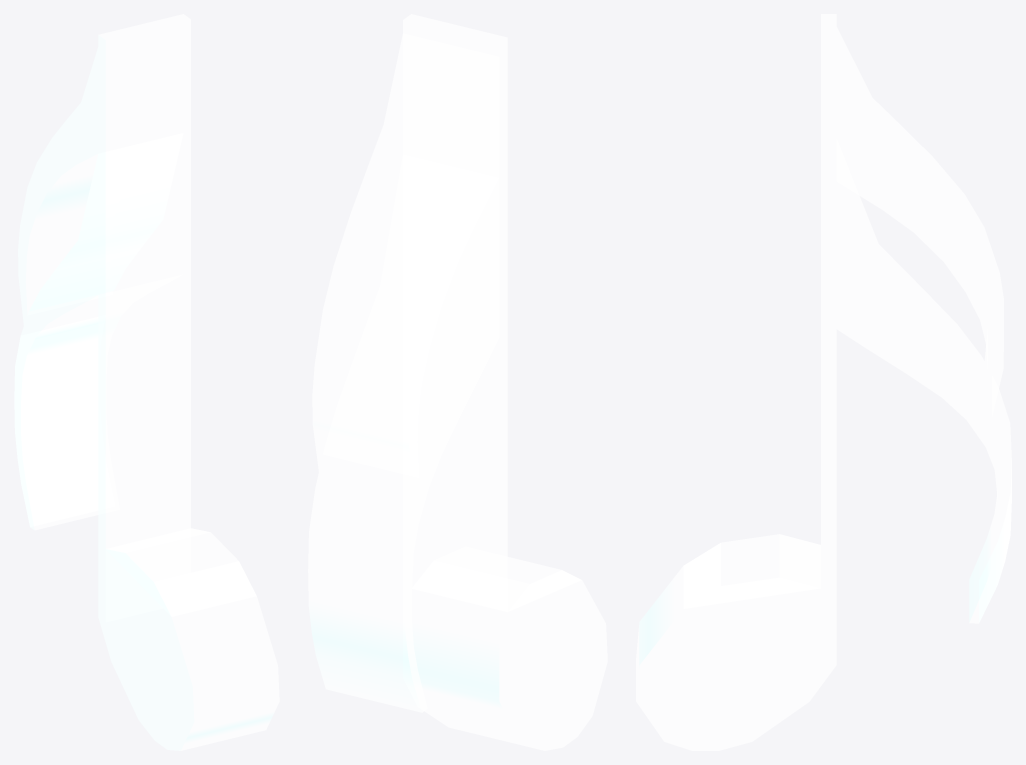
File: note2.glb
3 renders of one model, left to right at view 1: azimuth 30°, elevation 25°; view 2: azimuth 150°, elevation 25°; view 3: azimuth 270°, elevation 25°, orthographic. The views are drawn at different scales.
Visible parts, largest first — view 1: Cube.004; view 2: Cube.004; view 3: Cube.004.
Boxes of the visible parts, left/top/right/bottom form: Cube.004: left=14, top=14, right=279, bottom=750; Cube.004: left=308, top=14, right=607, bottom=750; Cube.004: left=636, top=14, right=1011, bottom=750.
Bounding box in the file's own units: 0.3442 × 2.56 × 1.26.
1 material, 1 textured.
